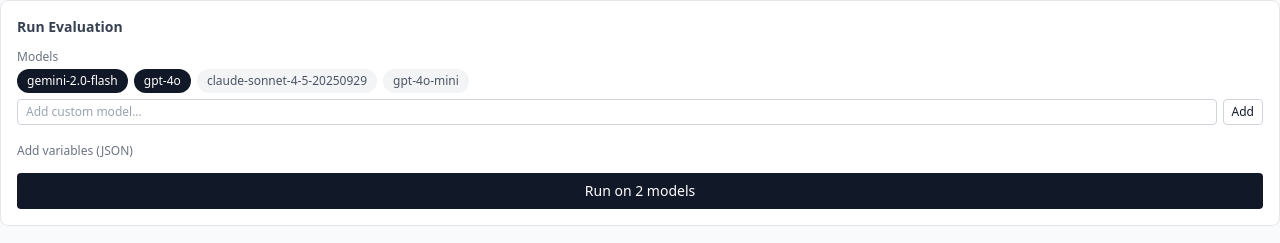
EvalRunner › toggles model selection on chip click
Click the button "gpt-4o" at [162, 81], box [134, 69, 191, 93]
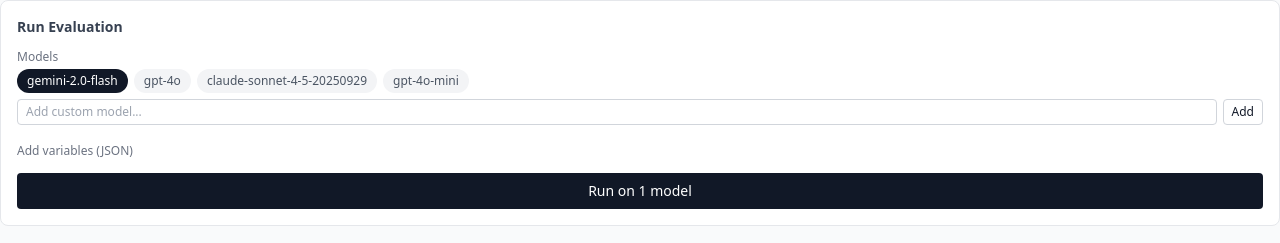
Check: the button "Run on 1 model" is shown, box [17, 173, 1263, 209]
